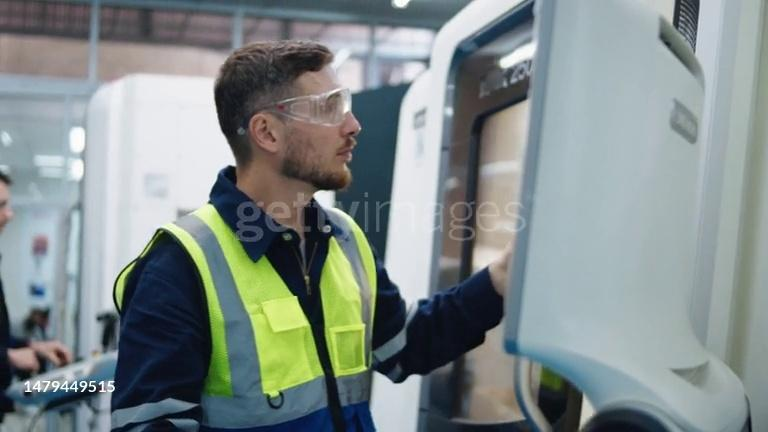person: (108, 31, 521, 432), (0, 168, 50, 431), (8, 306, 72, 364)
